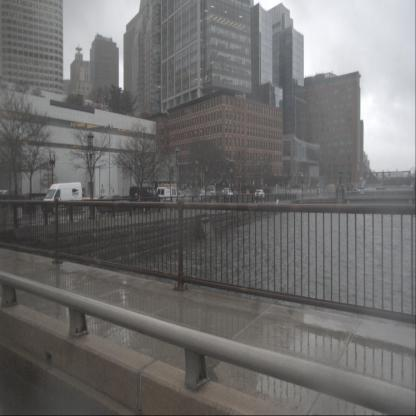vehicle-car: (41, 182, 83, 215), (129, 186, 161, 211), (95, 194, 132, 215), (156, 184, 184, 208), (178, 192, 200, 206), (345, 188, 364, 198), (201, 187, 216, 198), (255, 189, 266, 200), (221, 188, 232, 197)
